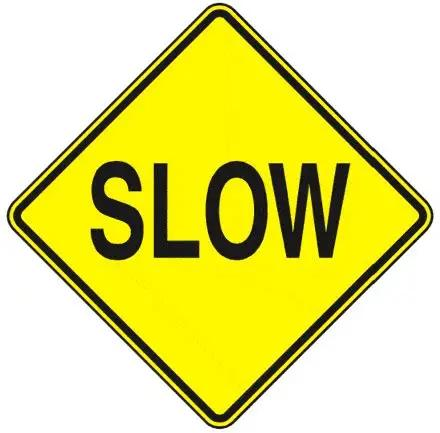Slow: (8, 4, 429, 423), (22, 15, 417, 412)
